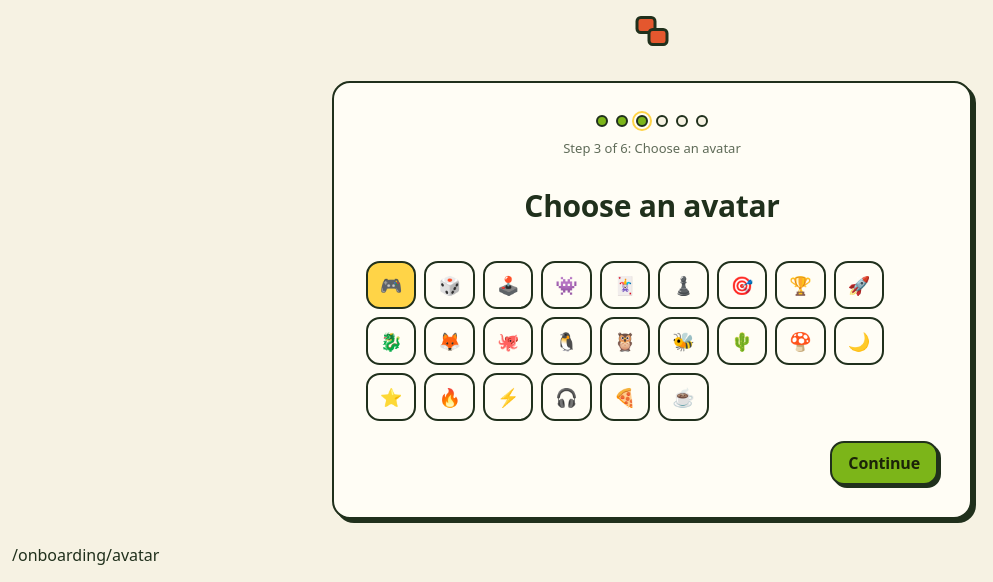
Test: OnboardingWizard › lets the avatar step be driven entirely from the keyboard_APG
Expected: the heading reads "Choose an avatar", x1=524 y1=185 x2=780 y2=226
Press ArrowLeft in the radio button named "Game controller", box x1=366 y1=261 x2=416 y2=309
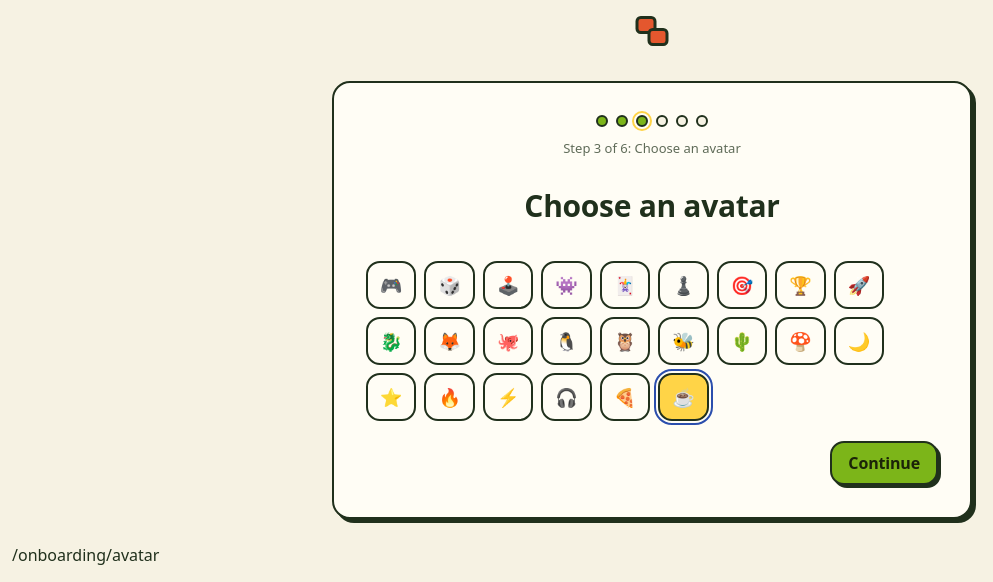
Expected: the radio button named "Coffee" is checked, x1=658 y1=373 x2=709 y2=421
Click the button "Continue" at (884, 463), box x1=830 y1=441 x2=938 y2=486
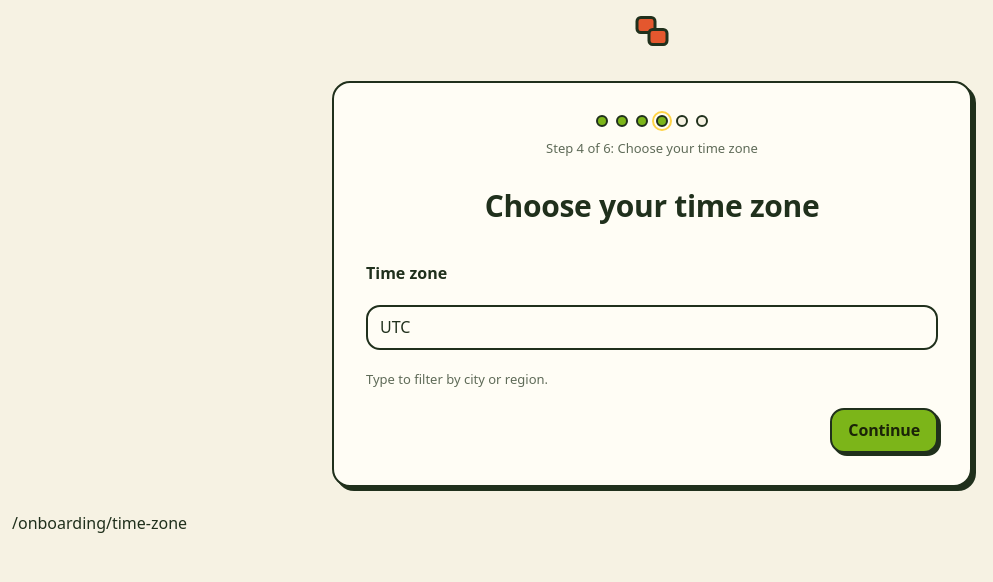
Expected: the heading reads "Choose your time zone", x1=485 y1=185 x2=819 y2=226
